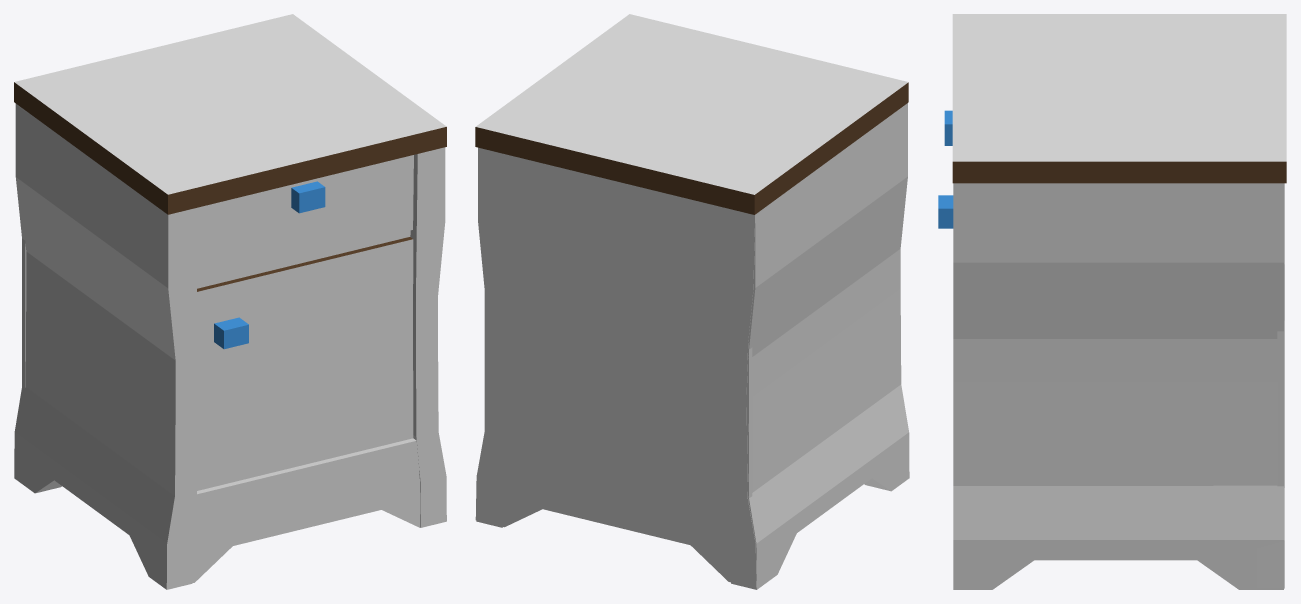
File: bedside_table_tier7.fbx
3 renders of one model, left to right at view 1: azimuth 30°, elevation 25°; view 2: azimuth 150°, elevation 25°; view 3: azimuth 270°, elevation 25°, orthographic. The views are drawn at different scales.
Visible parts, largest first — view 1: Cube.010; view 2: Cube.010; view 3: Cube.010.
Part boxes in pixels (left/top/right/bottom): Cube.010: left=14, top=14, right=446, bottom=589; Cube.010: left=475, top=14, right=909, bottom=589; Cube.010: left=938, top=14, right=1286, bottom=589.
Bounding box in the file's own units: 79.2 × 107 × 78.56.
